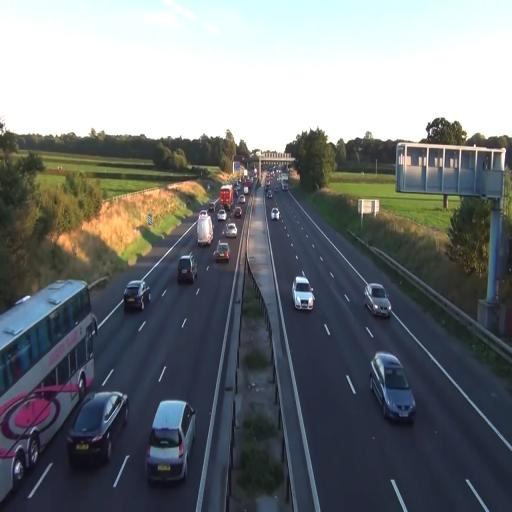vehicle: (0, 278, 98, 499), (0, 278, 97, 420), (66, 389, 129, 466), (145, 397, 197, 485), (369, 351, 416, 423), (364, 281, 391, 318), (292, 275, 315, 311), (123, 278, 147, 312), (177, 254, 197, 286), (197, 211, 214, 248), (214, 241, 230, 263), (270, 204, 280, 222), (226, 222, 237, 236), (273, 204, 280, 220)
